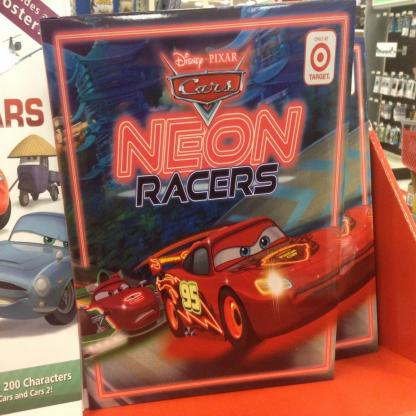Car: (130, 206, 373, 354), (1, 210, 78, 326), (87, 277, 162, 332), (77, 301, 127, 355), (1, 168, 11, 229)
